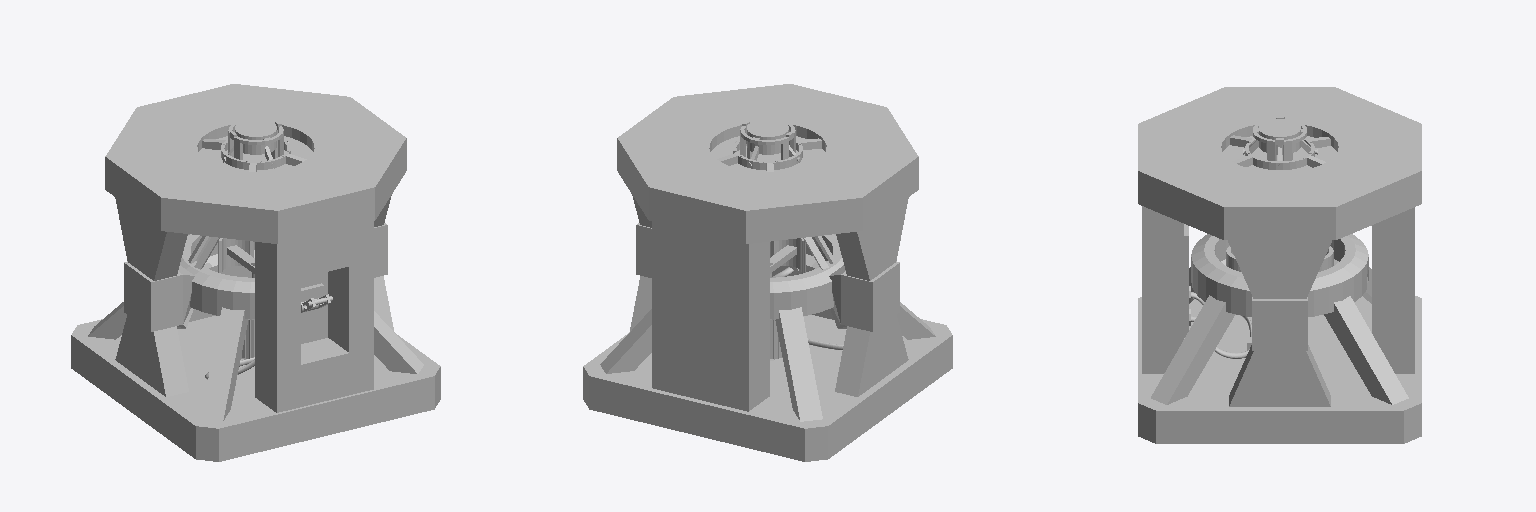
File: teslaBase.obj
3 views of the same model, side by side, from view 1: azimuth 30°, elevation 25°; view 2: azimuth 150°, elevation 25°; view 3: azimuth 270°, elevation 25° (orthographic).
Parts seen in each view (by area): view 1: Base_Cylinder.013, Rotor_Cylinder.019; view 2: Base_Cylinder.013, Rotor_Cylinder.019; view 3: Base_Cylinder.013.
Part boxes in pixels (x1,y1,x2,y2): Base_Cylinder.013: (71,84,440,461); Rotor_Cylinder.019: (218,238,254,277); Base_Cylinder.013: (583,84,952,461); Rotor_Cylinder.019: (770,238,805,277); Base_Cylinder.013: (1138,87,1421,443).
Size of the model in its own units: 1 by 0.9984 by 1.